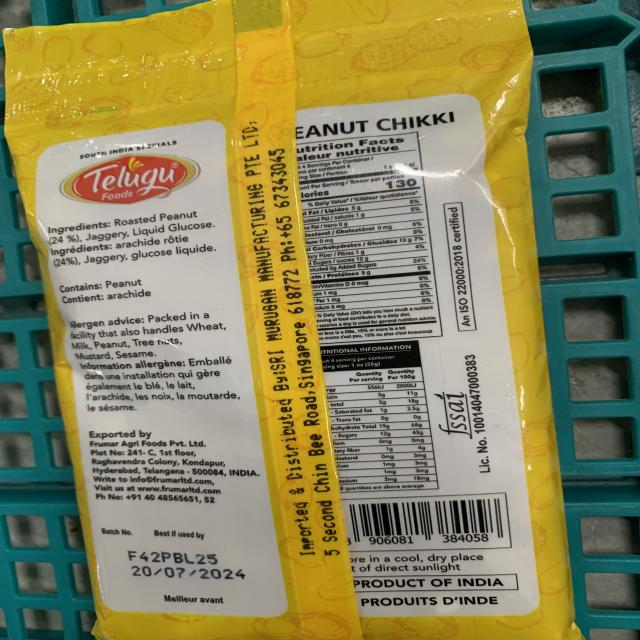object_name: (4, 12, 569, 640)
